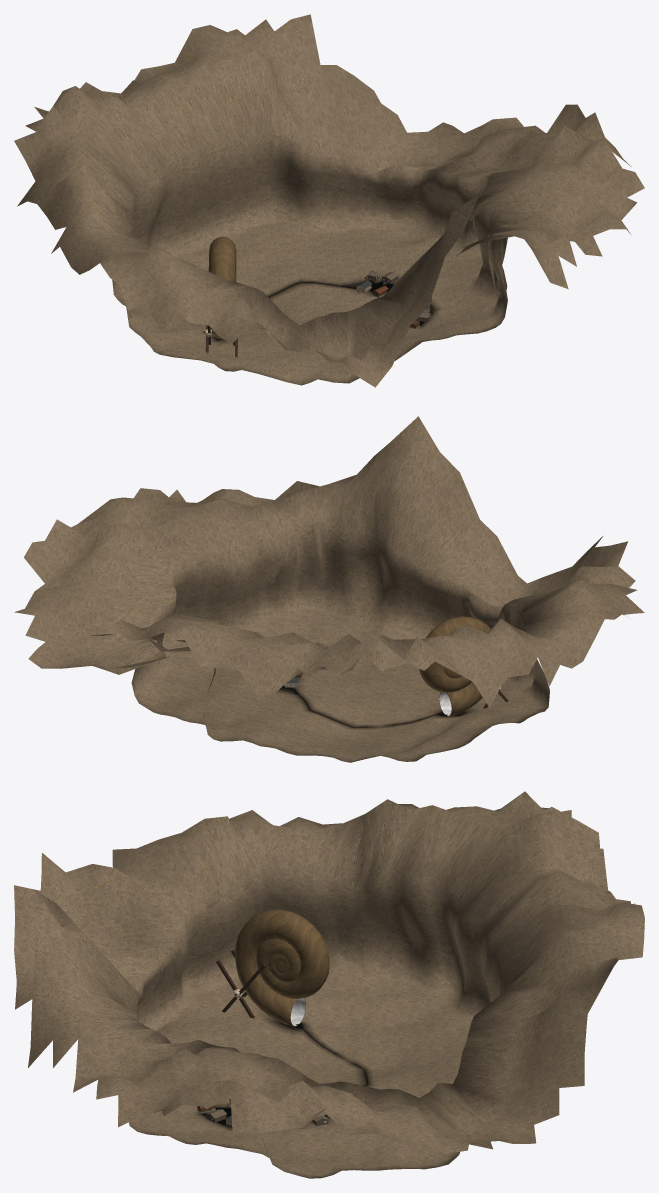
The model's file is SnailLevel.glb.
3 renders of one model, top to bottom at view 1: azimuth 30°, elevation 25°; view 2: azimuth 150°, elevation 25°; view 3: azimuth 270°, elevation 25°, orthographic. The views are drawn at different scales.
Parts seen in each view (by area): view 1: Ground-col, Shell.exterior; view 2: Ground-col, Shell.exterior; view 3: Ground-col, Shell.exterior, ShellStand-col.
Boxes of the visible parts, bbox=[...] form: Ground-col: bbox=[14, 14, 644, 387]; Shell.exterior: bbox=[208, 236, 236, 339]; Ground-col: bbox=[14, 416, 644, 762]; Shell.exterior: bbox=[419, 616, 491, 716]; Ground-col: bbox=[14, 791, 644, 1178]; Shell.exterior: bbox=[235, 909, 329, 1026]; ShellStand-col: bbox=[216, 949, 266, 1018].
Size of the model in its own units: 456 by 182 by 408.
Materials: 12 (12 with a texture image).
